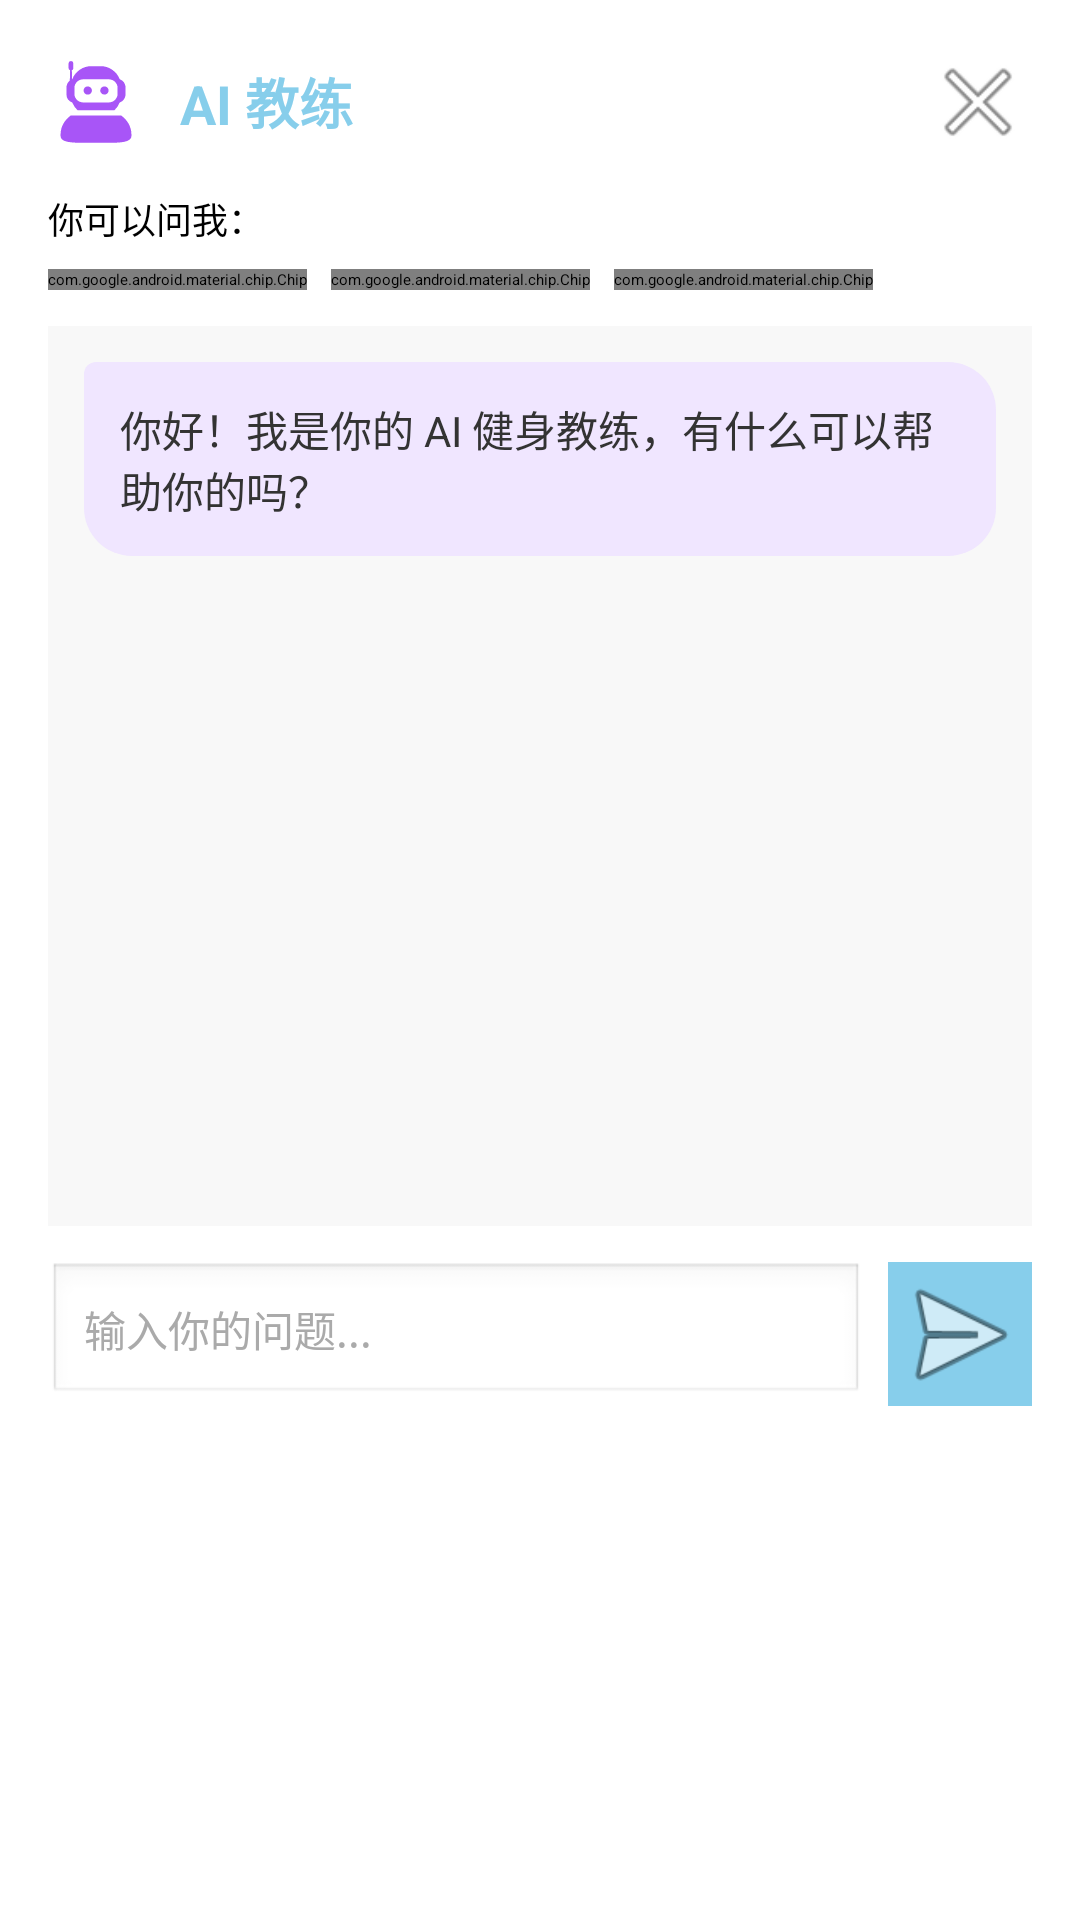

Where icons sit on this 1080 × 1920 app screen, as [left=x1, top=y1, right=x2, bottom=y2]:
ai assistant: [left=60, top=61, right=132, bottom=143]
close clear cancel: [left=944, top=68, right=1012, bottom=136]
send: [left=888, top=1262, right=1032, bottom=1406]
